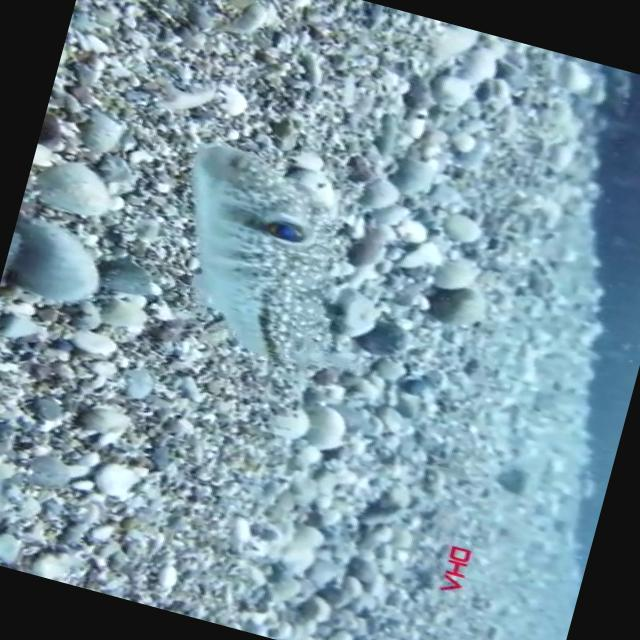Balon Baligi: (150, 140, 394, 382)
